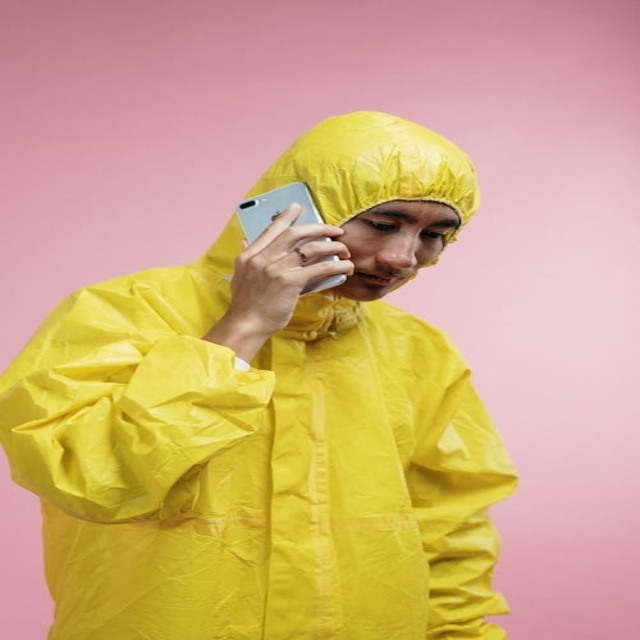Sin_gafas: (366, 207, 456, 251)
Sin_guantes: (220, 202, 357, 338)
Sin_mascara: (356, 269, 403, 300)
